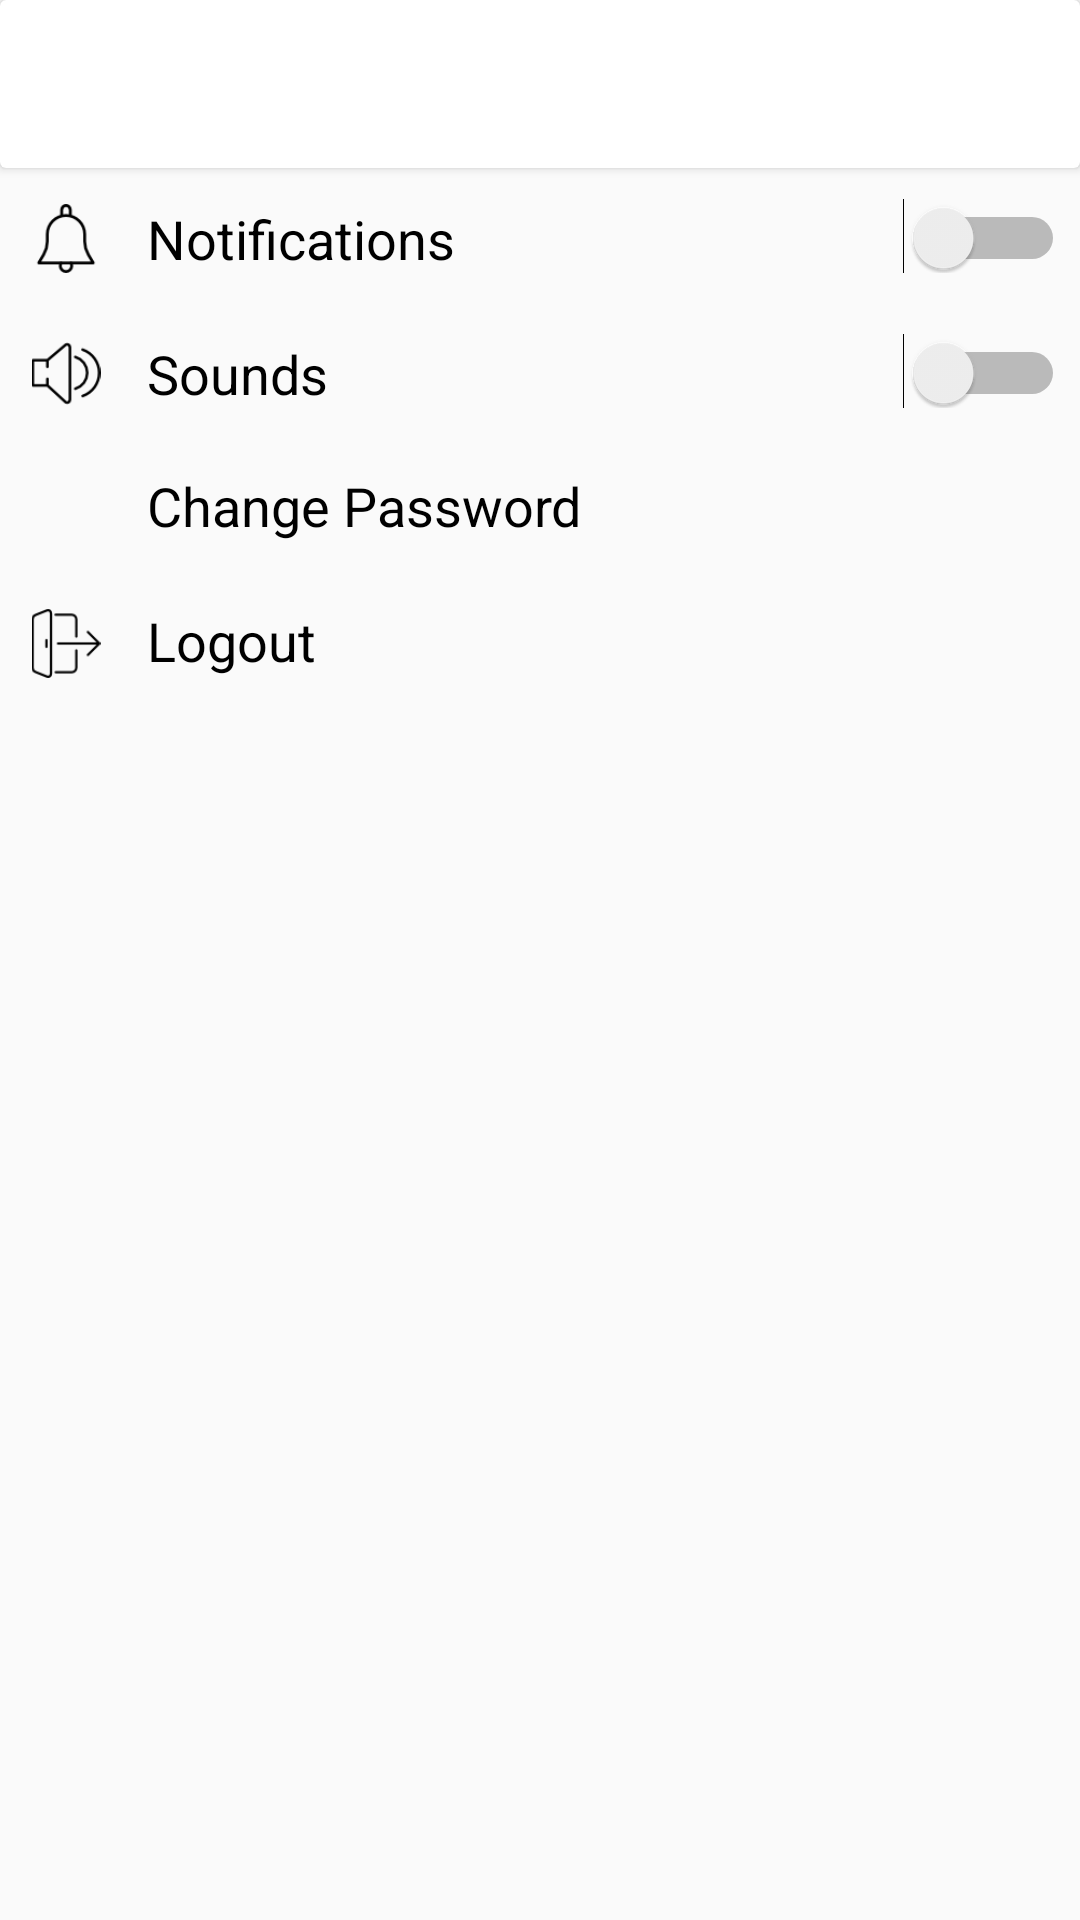

Icon click points for this 1080w x 1920h phone screenshot, format point (x, y):
pnotification: point (66, 238)
psound: point (66, 373)
